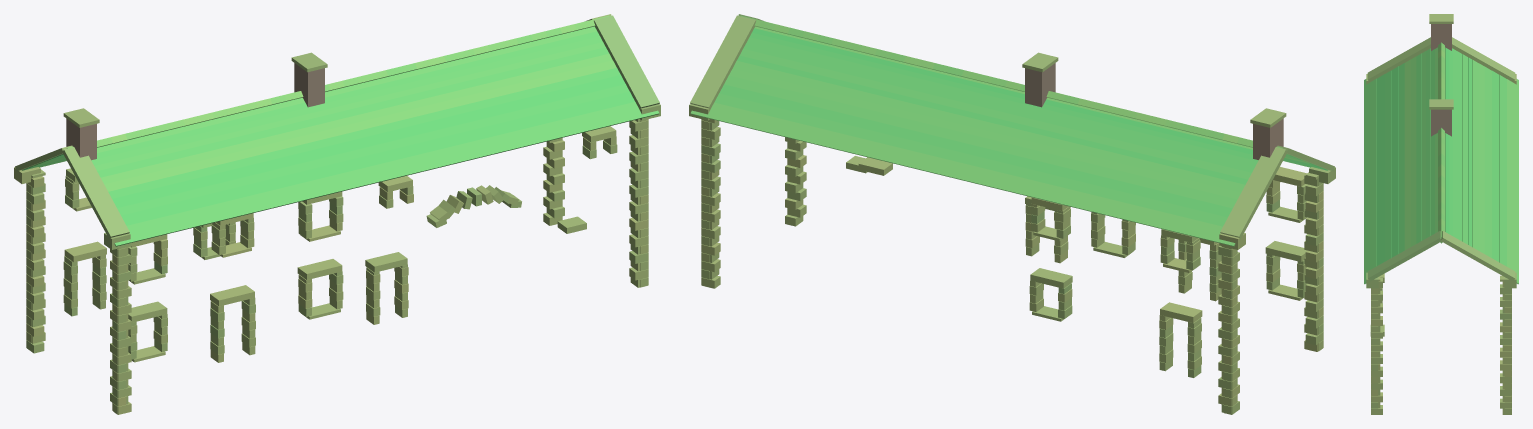
Rendered from SM_Bld_056_Stone.glb.
3 views of the same model, side by side, from view 1: azimuth 30°, elevation 25°; view 2: azimuth 150°, elevation 25°; view 3: azimuth 270°, elevation 25° (orthographic). The views are drawn at different scales.
Parts seen in each view (by area): view 1: SM_Bld_056_Stone; view 2: SM_Bld_056_Stone; view 3: SM_Bld_056_Stone.
Boxes of the visible parts, <box> form: SM_Bld_056_Stone: <box>14,14,660,414</box>; SM_Bld_056_Stone: <box>689,14,1335,414</box>; SM_Bld_056_Stone: <box>1364,14,1518,414</box>.
Size of the model in its own units: 20.84 by 9.53 by 6.62.
